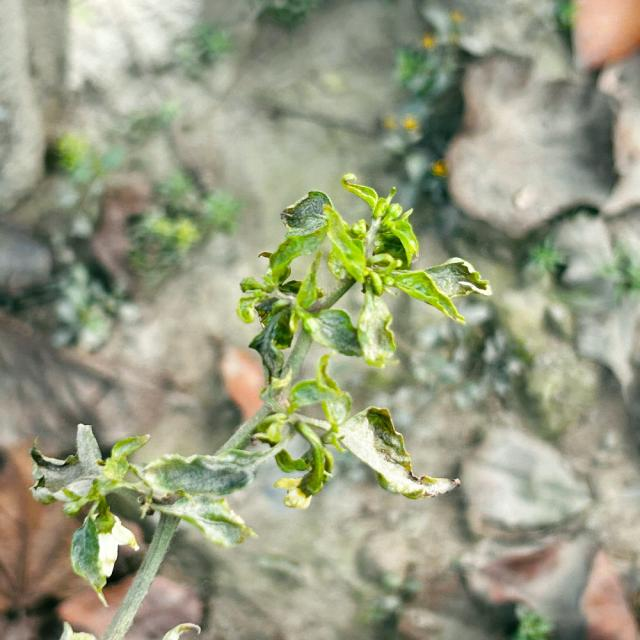Chilli_Leaf_Curl: (28, 171, 492, 633), (237, 172, 492, 366), (28, 422, 152, 606), (335, 404, 461, 500)
